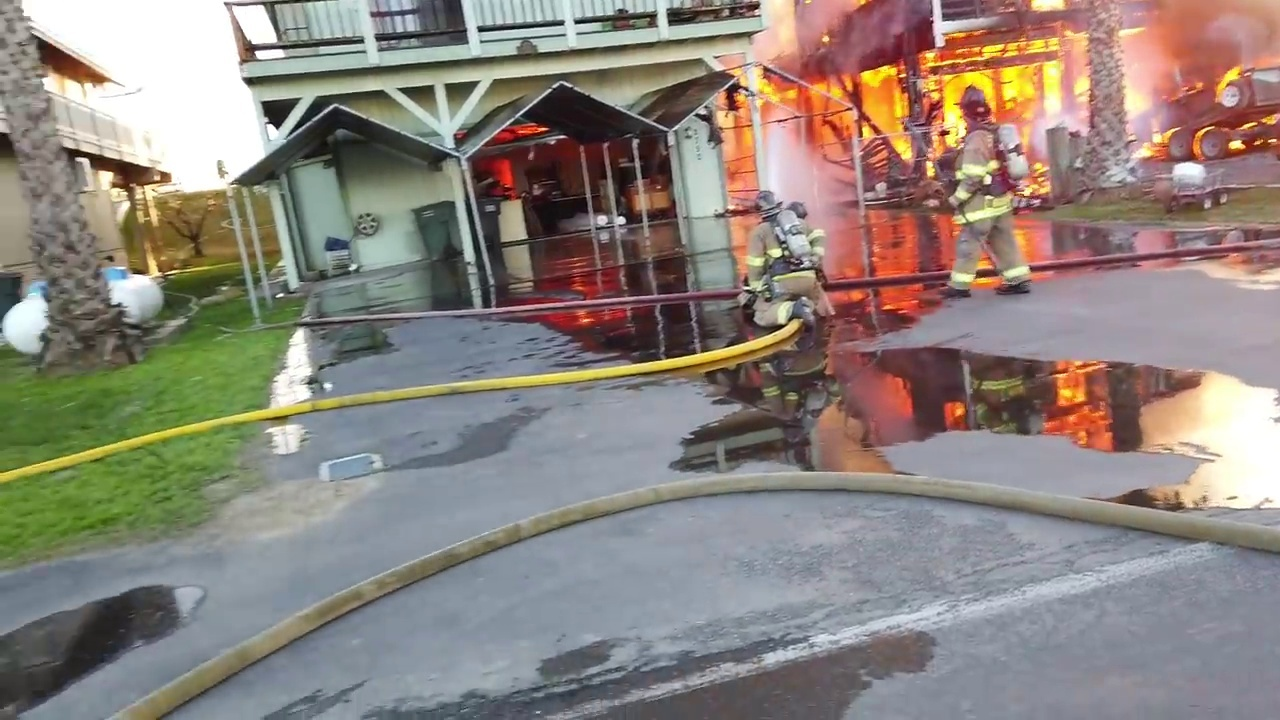fire: (765, 3, 1085, 257), (496, 125, 547, 145), (489, 161, 512, 195)
smoke: (1094, 1, 1279, 72)
